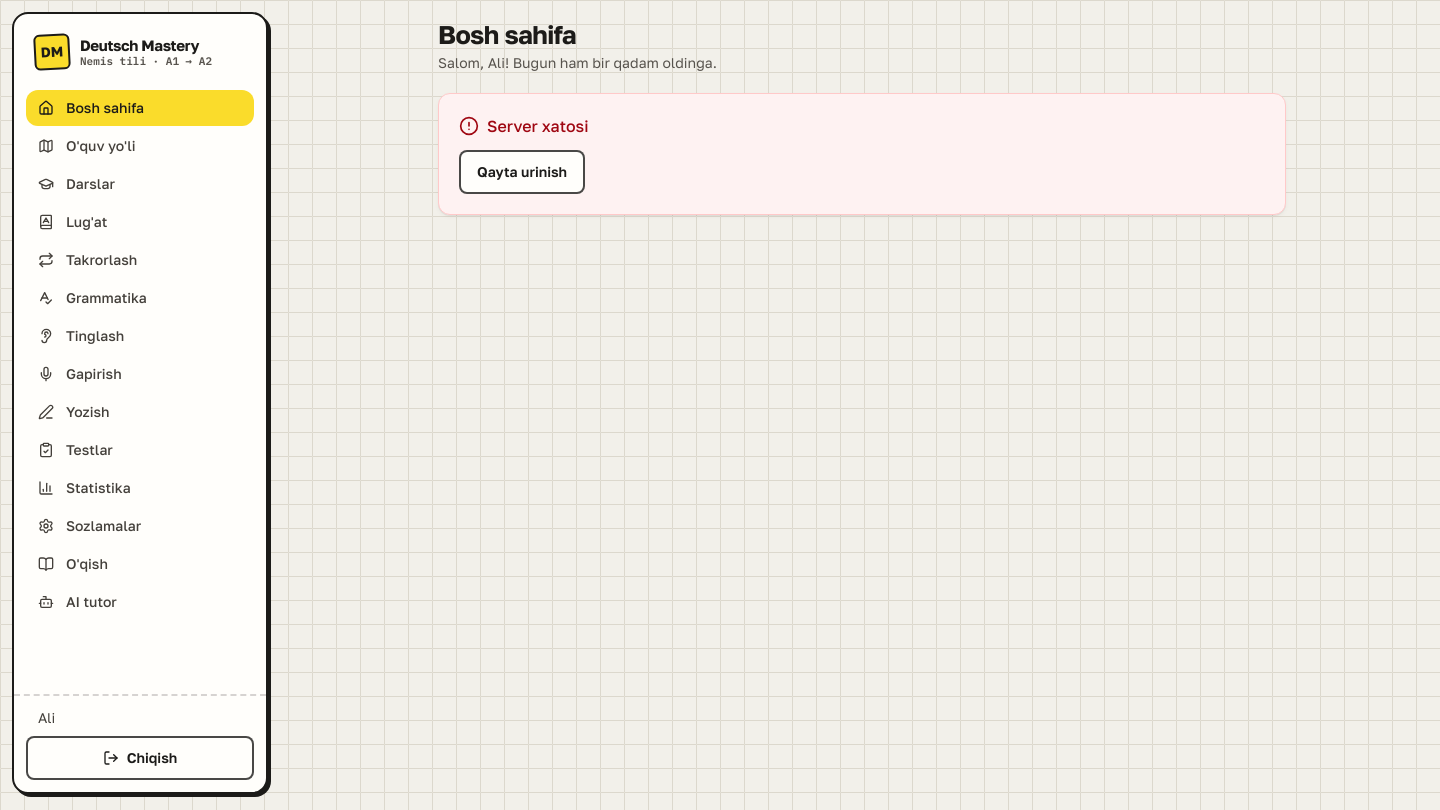
Test: dashboard › shows an error state and recovers on retry
Expected: the message shows "Server xatosi", [487,116,588,136]
Step 1. Click the button "Qayta urinish" → (522, 172), box [459,150,585,194]
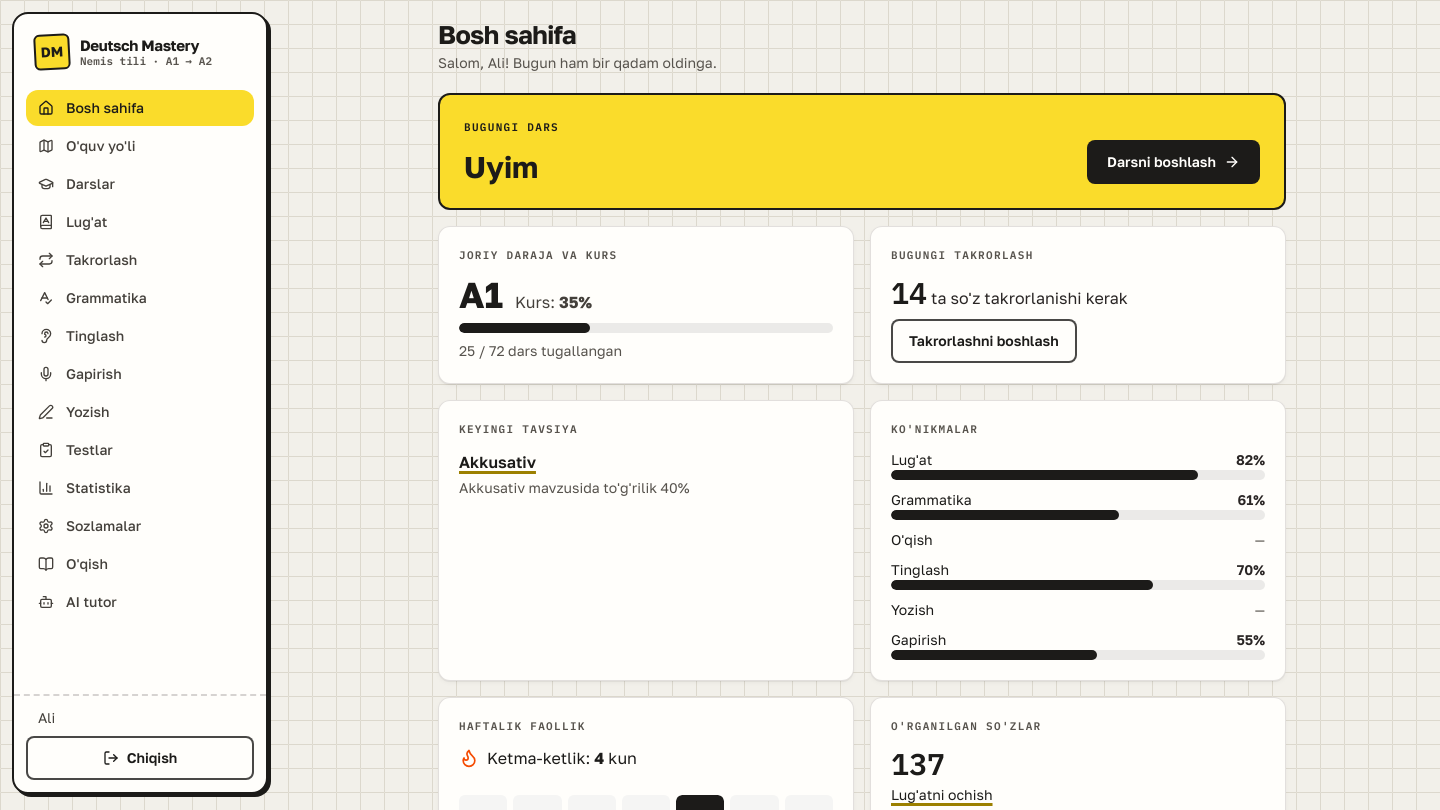
Expected: the element "Joriy daraja va kurs" is shown, [438,226,854,384]
